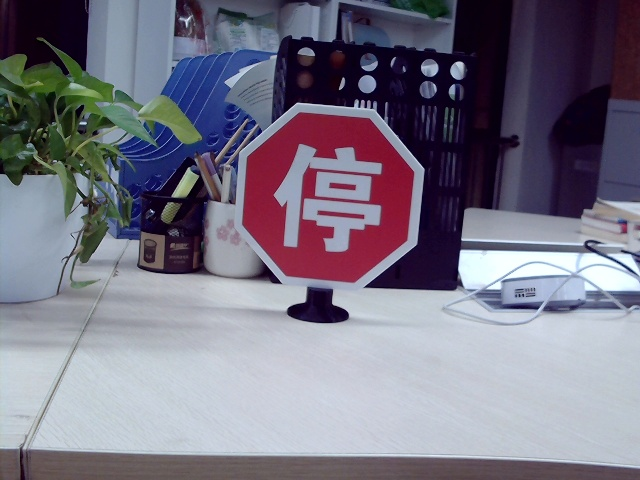stop: (271, 140, 378, 252)
